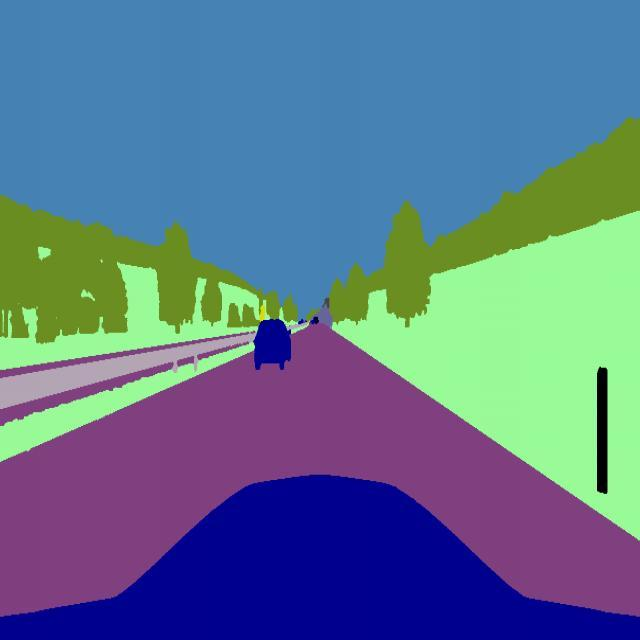safe: (252, 313, 292, 379)
